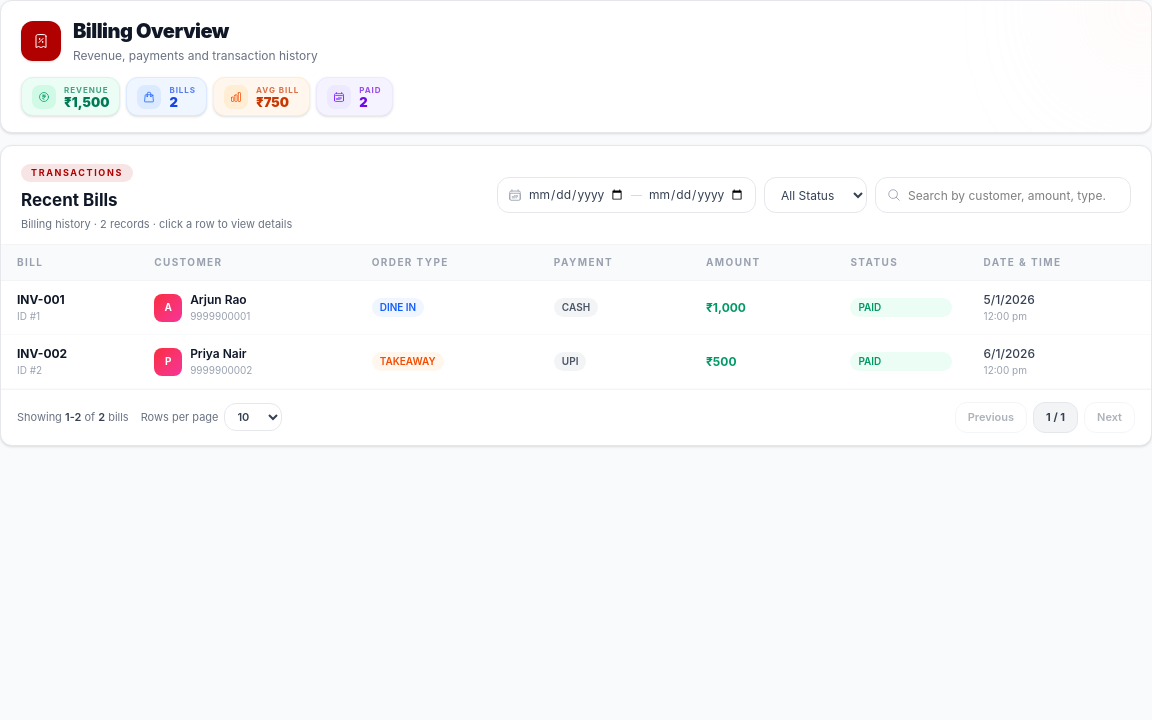
Test case: Bills page › opening a bill shows its itemized lines and a correctly computed bill summary
This screenshot has width=1152, height=720.
Click the text "INV-001": [41, 300] box [17,292,65,307]
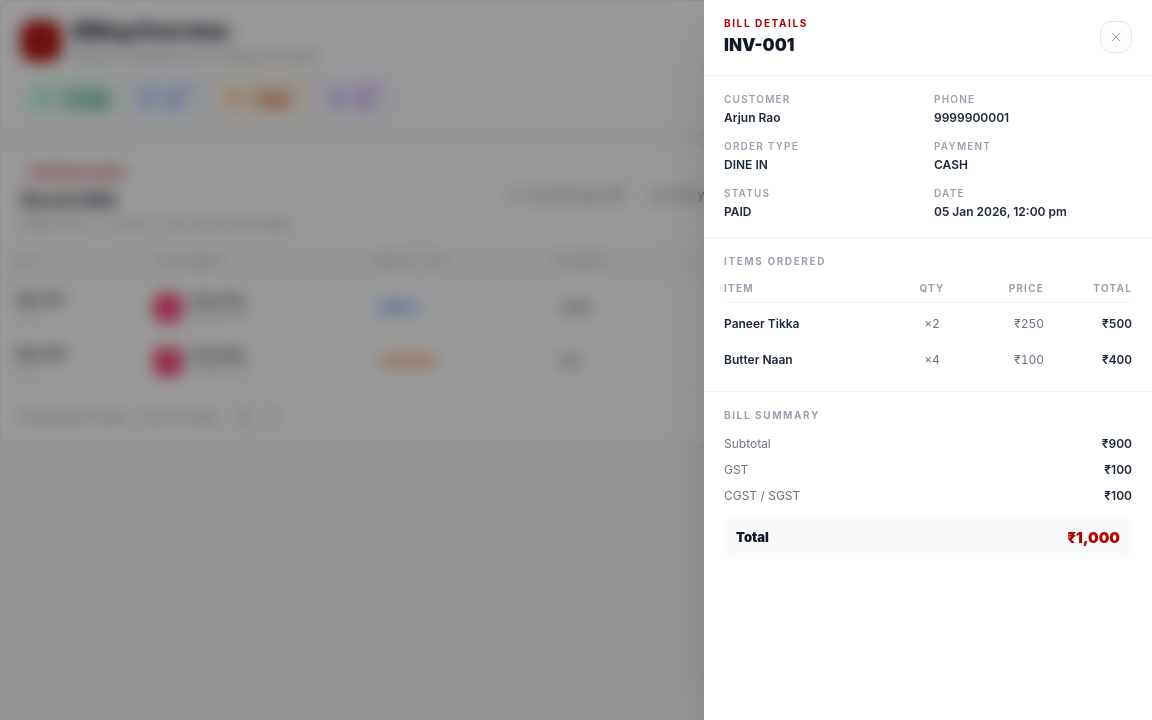
Expected: the text "Paneer Tikka" is shown, [724,316,800,331]
Expected: the text "×2" is shown, [924,316,940,330]
Expected: the text "₹500" is shown, [1102,316,1132,330]
